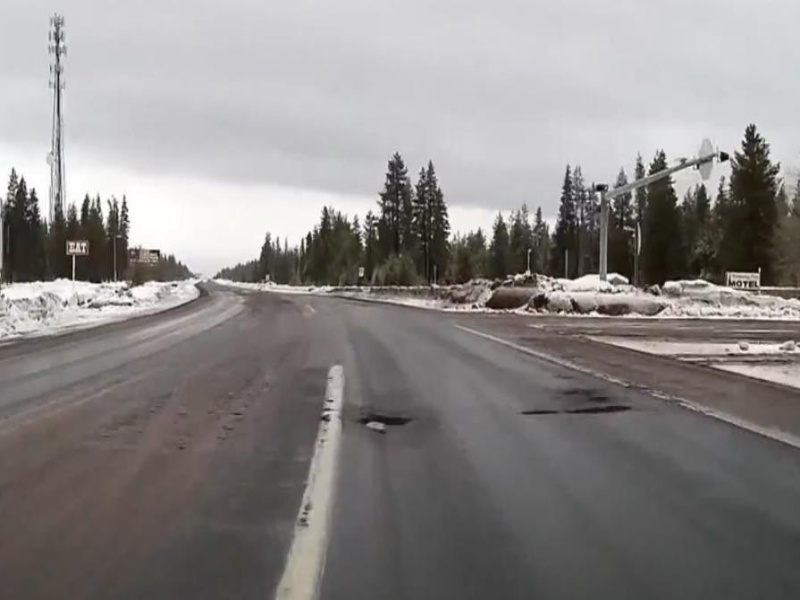pothole: (356, 410, 412, 434)
